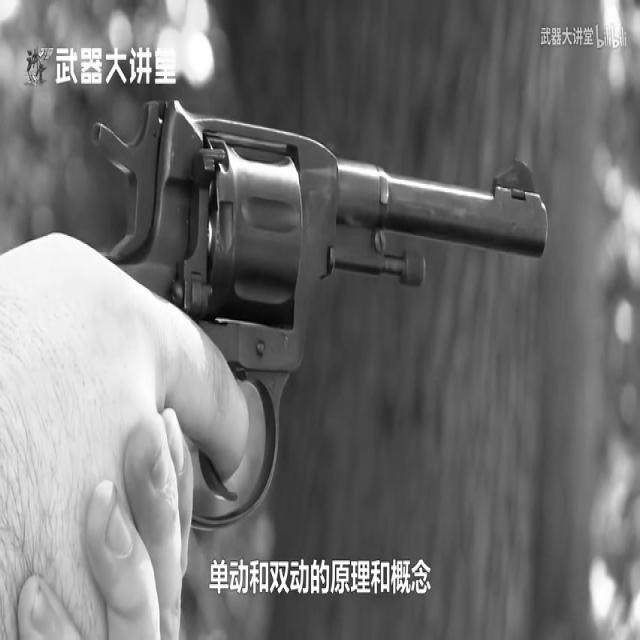Short-Gun: (64, 32, 580, 640)
